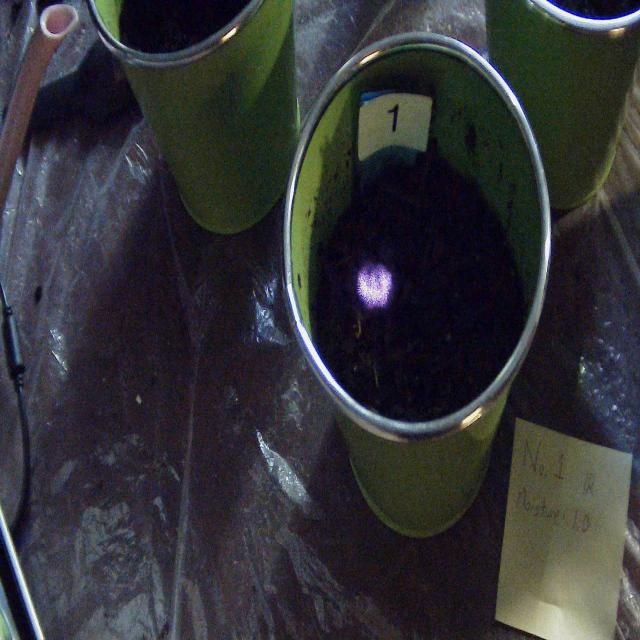soil-moisture-1.0: (358, 260, 394, 312)
